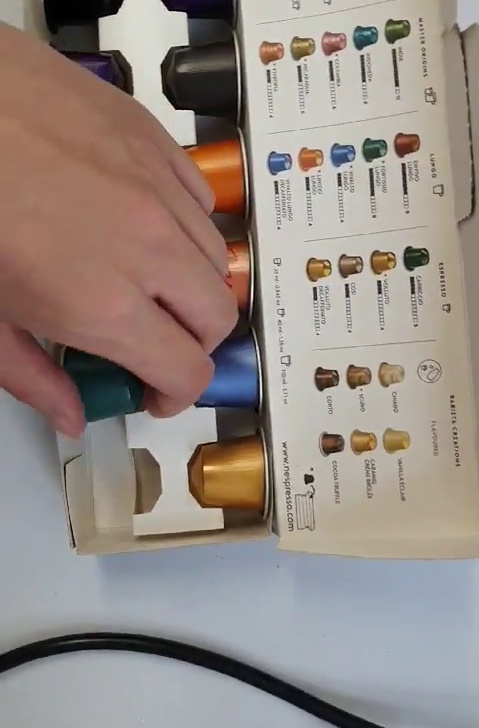capsule_13: (55, 339, 161, 437)
